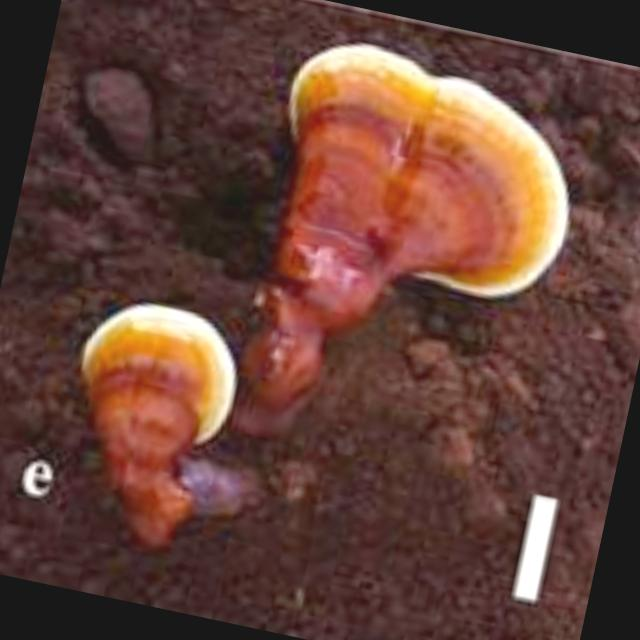ganoderma: (255, 28, 602, 314), (69, 289, 254, 454)
